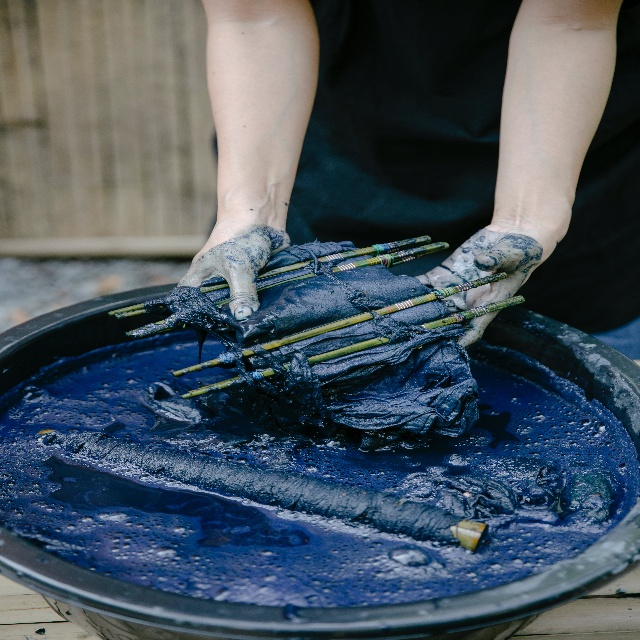Sin_guantes: (413, 220, 548, 350), (174, 212, 290, 324)
